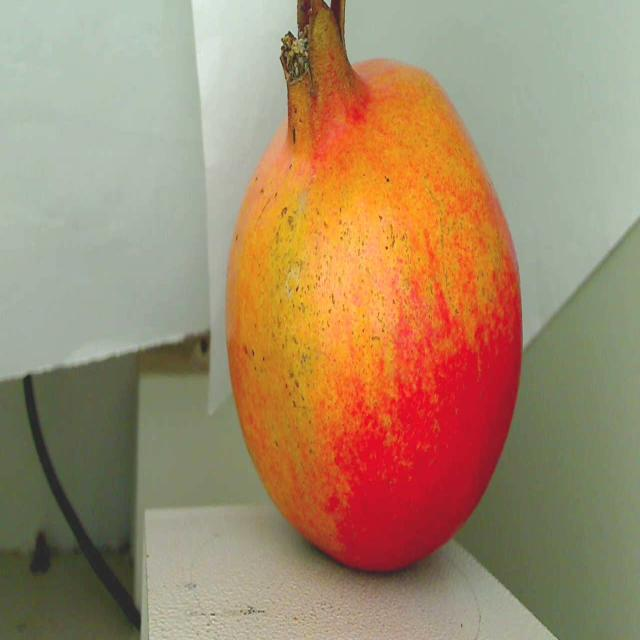pomegranate: (220, 0, 530, 588)
